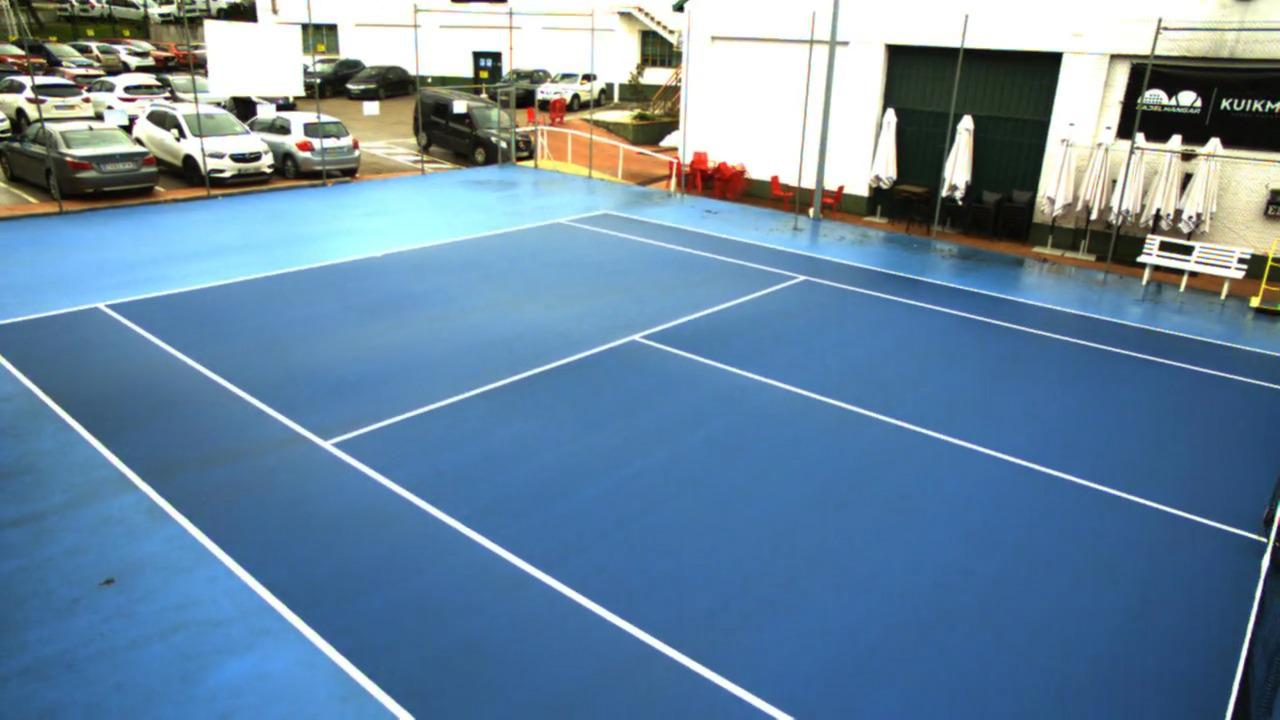cancha_tenis: (95, 218, 1280, 712)
point_f1: (87, 292, 112, 320)
point_f2: (554, 213, 583, 233)
point_fc1: (370, 248, 388, 266)
point_i1: (316, 426, 346, 460)
point_i2: (788, 267, 817, 292)
point_ic1: (622, 324, 654, 354)
